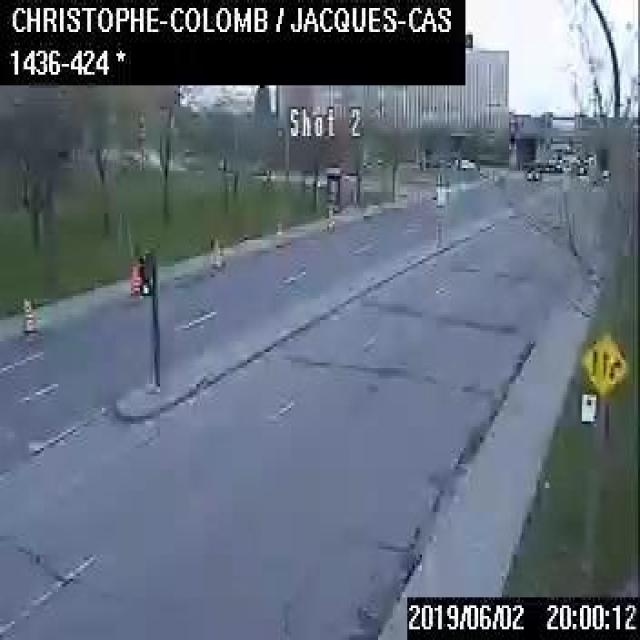construction: (22, 296, 34, 331), (130, 261, 138, 294), (210, 233, 218, 266), (274, 218, 282, 250), (325, 206, 333, 230)
vehicle: (454, 156, 474, 169), (431, 155, 449, 167), (524, 164, 538, 178), (573, 160, 586, 172), (554, 157, 564, 169), (543, 160, 553, 169)
